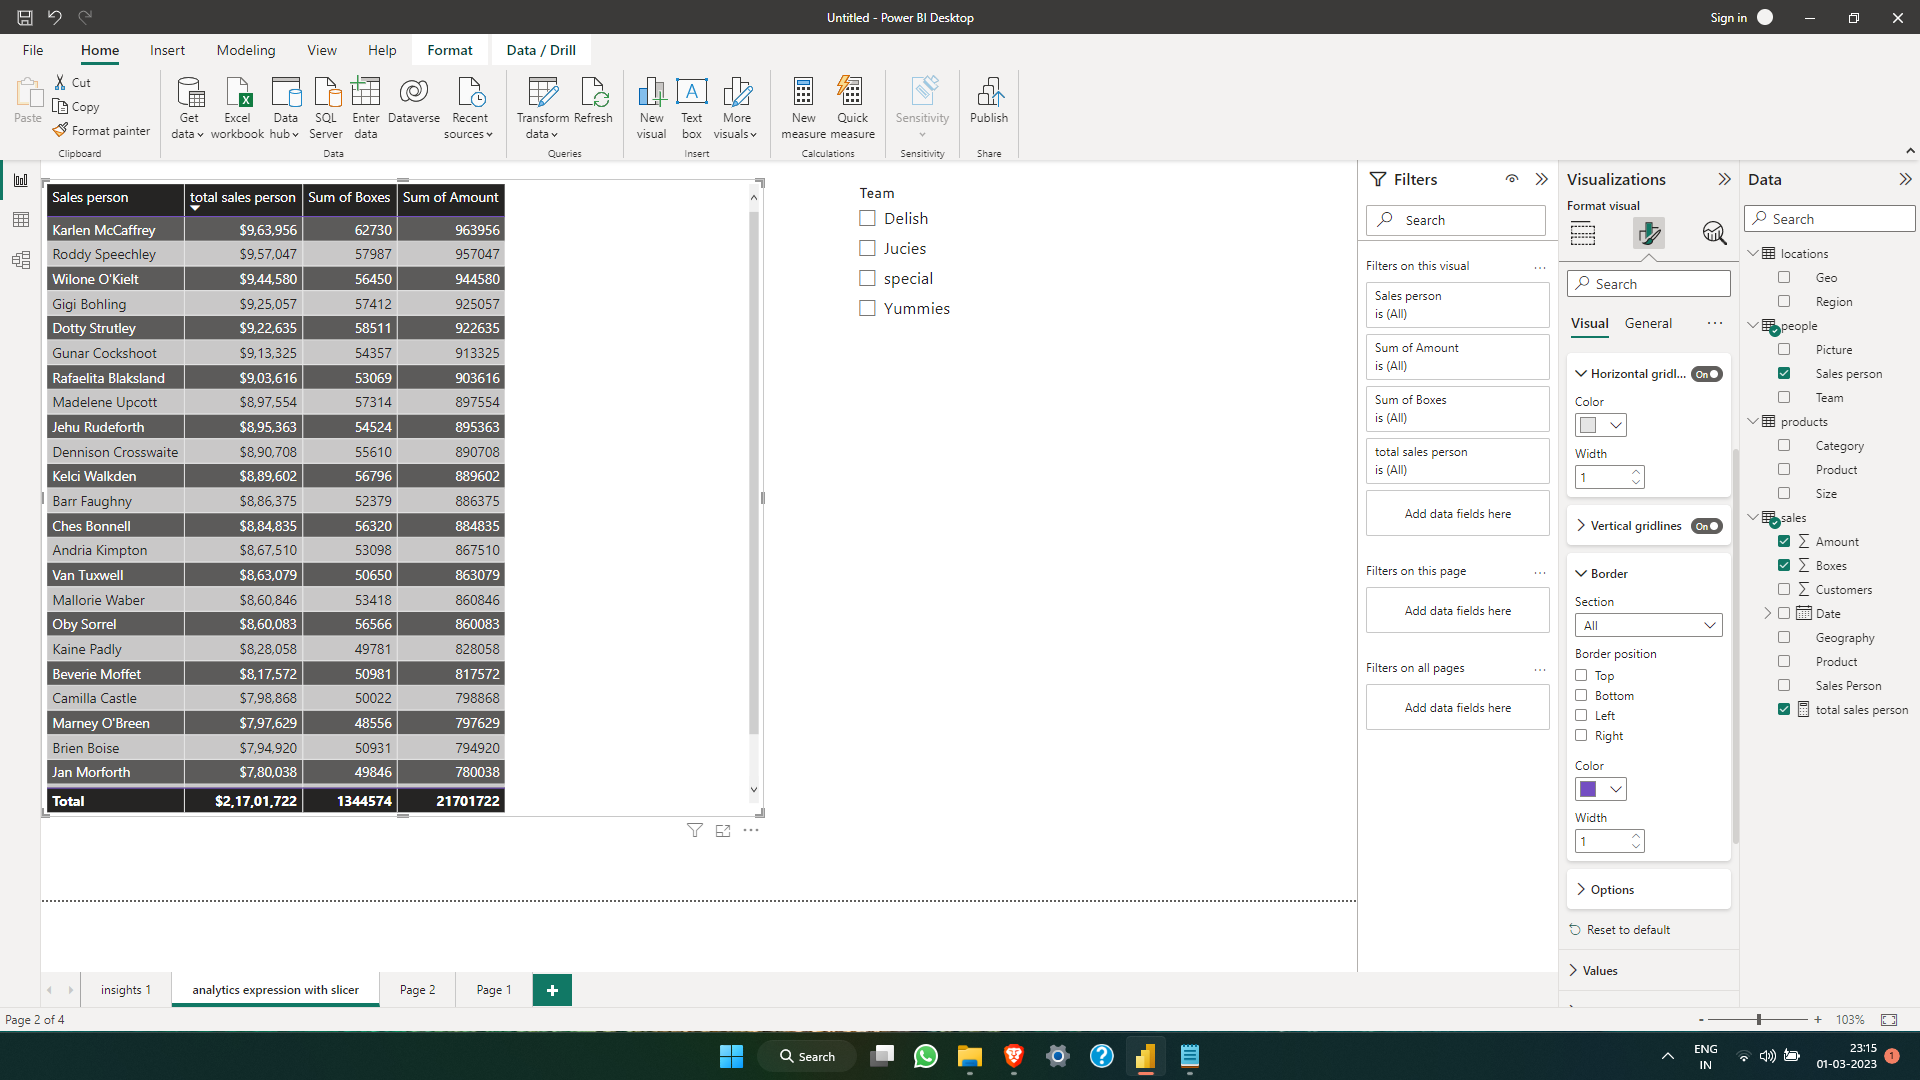

The page's visual inventory and layout, read from the dashboard file:
{"tool":"powerbi","page":{"name":"analytics expression with slicer","canvas":[1280,720],"ordinal":1},"visuals":[{"type":"tableEx","fields":{"Values":["people.Sales person","sales.total sales person","Sum(sales.Boxes)","Sum(sales.Amount)"]},"box":[0,18.5,703.2,620.5],"z":0},{"type":"slicer","fields":{"Values":["people.Team"]},"box":[783,18.5,266.5,212],"z":1000}]}

Visuals, with their boxes on the page's 1280x720 design canvas (x1, y1, x2, y2). These are canvas units, not pixel positions in the 1920x1080 screenshot, which may show the page scaled, cropped or inside an application window:
tableEx - people.Sales person x sales.total sales person: 0 18 703 639
slicer - people.Team: 783 18 1050 230
